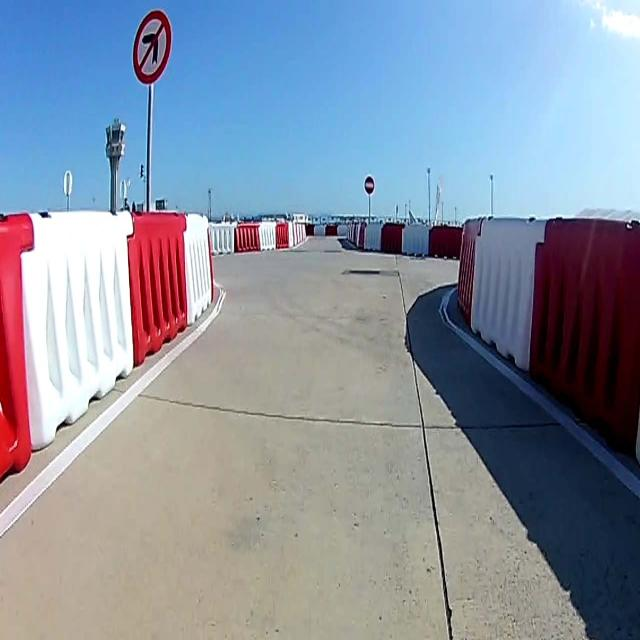girisyok: (364, 175, 374, 195)
soladonulmez: (132, 9, 172, 86)
